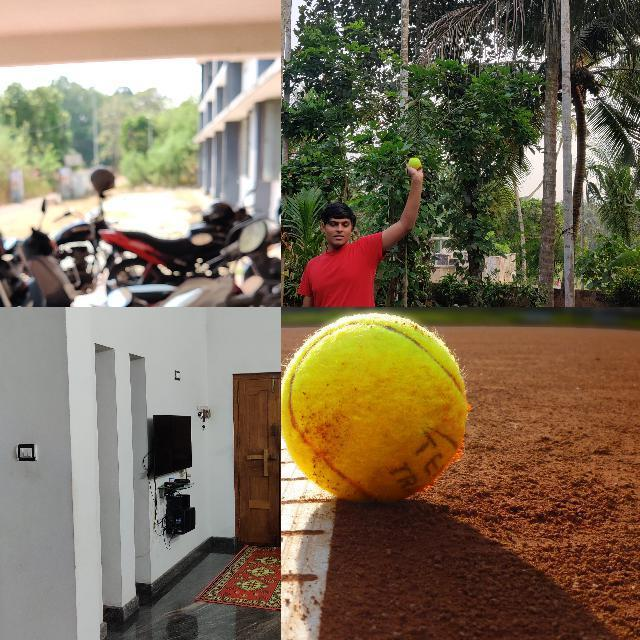tennis-ball: (281, 313, 468, 506), (408, 157, 420, 169)
